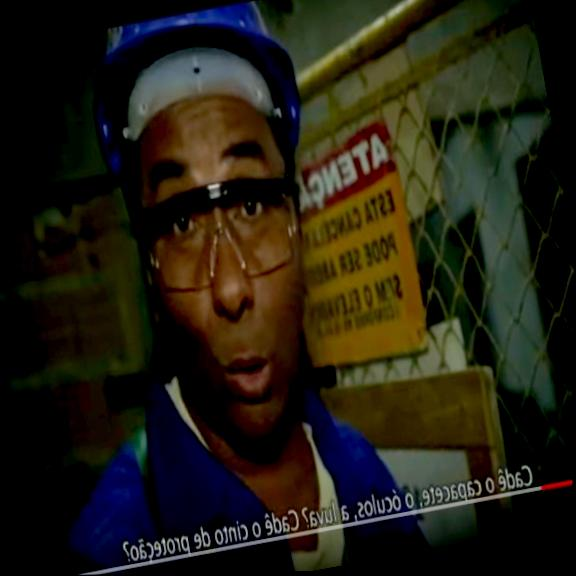no_safety_vest: (5, 285, 437, 576)
